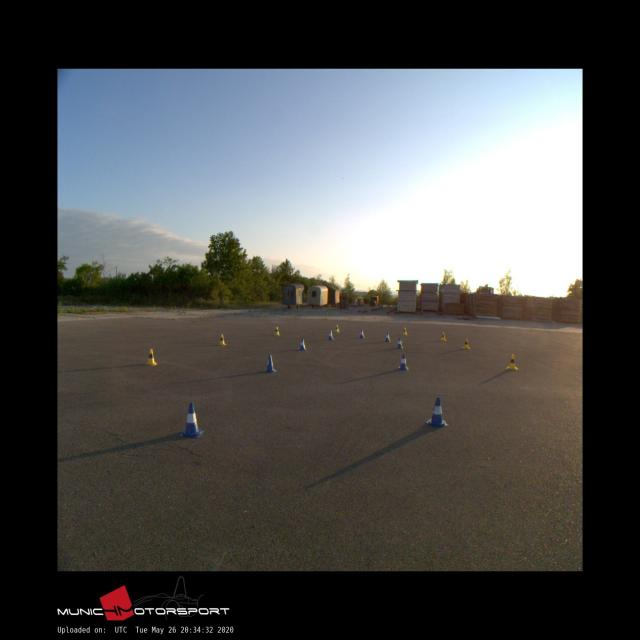blue_cone: (180, 402, 203, 438), (425, 396, 448, 427), (263, 354, 276, 372), (398, 353, 408, 370), (299, 338, 306, 350), (396, 336, 402, 348), (384, 332, 390, 342), (359, 329, 365, 338), (328, 330, 333, 340)
yellow_cone: (506, 352, 518, 369), (145, 349, 157, 364), (218, 334, 225, 344), (462, 338, 469, 348), (402, 327, 408, 335), (441, 332, 446, 341), (275, 326, 279, 335), (335, 324, 339, 332)
